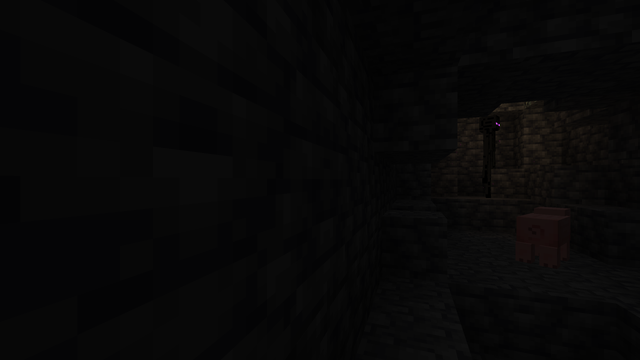cochons: (509, 211, 585, 268)
endermens: (477, 112, 501, 198)
